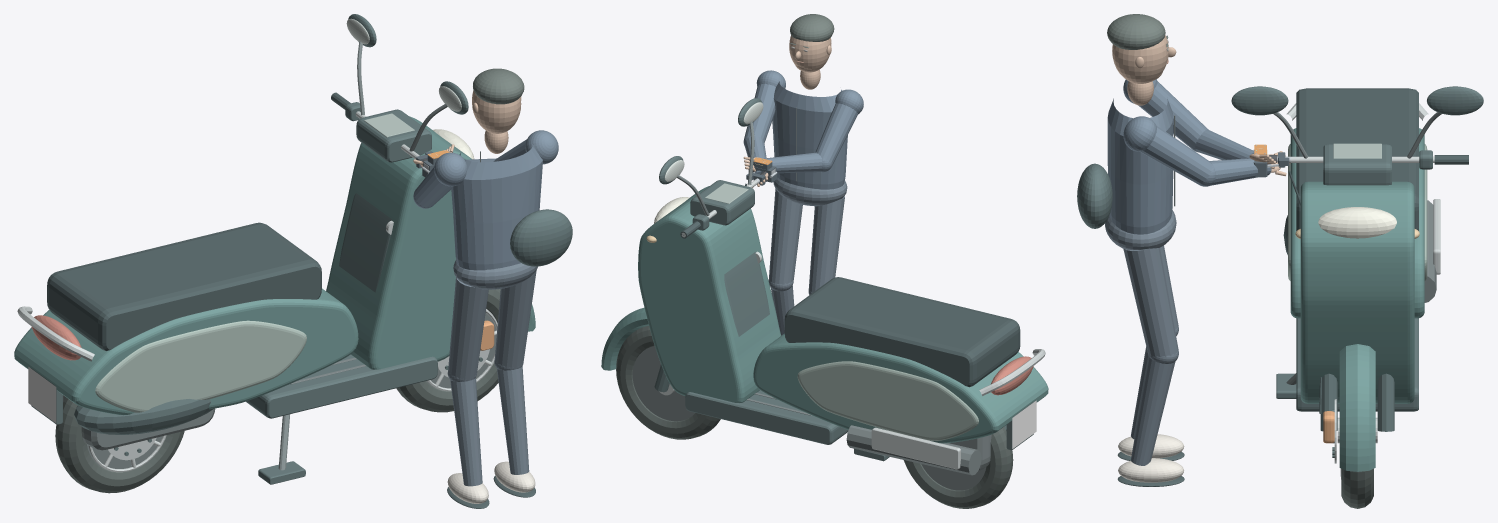
The model's file is Xe_may_va_SafeLock_R02.glb.
3 renders of one model, left to right at view 1: azimuth 30°, elevation 25°; view 2: azimuth 150°, elevation 25°; view 3: azimuth 270°, elevation 25°, orthographic. The views are drawn at different scales.
Visible parts, largest first — view 1: 073_Yen_xe, 070_Yem_truoc, 062_Vo_duoi_xe, 063_Op_duoi_phu, 154_Ao_khoac_tham_chieu, 064_San_de_chan, 000_Lop_xe, 071_Tam_op_trong, 051_Nap_truyen_dong, 188_Dui, 207_Tui_deo, 169_Dui (+19 smaller); view 2: 070_Yem_truoc, 073_Yen_xe, 062_Vo_duoi_xe, 063_Op_duoi_phu, 154_Ao_khoac_tham_chieu, 064_San_de_chan, 024_Lop_xe, 000_Lop_xe, 071_Tam_op_trong, 169_Dui, 188_Dui, 025_Vanh_xe (+17 smaller); view 3: 070_Yem_truoc, 073_Yen_xe, 154_Ao_khoac_tham_chieu, 079_Chan_bun_truoc, 169_Dui, 062_Vo_duoi_xe, 171_Cang_chan, 084_Cum_dong_ho, 086_Den_pha, 175_Tay_ao_tren, 207_Tui_deo, 159_Toc (+20 smaller).
Part boxes in pixels (x1=…): 073_Yen_xe: x1=47, y1=222, x2=321, y2=350; 070_Yem_truoc: x1=326, y1=116, x2=471, y2=369; 062_Vo_duoi_xe: x1=14, y1=288, x2=358, y2=415; 063_Op_duoi_phu: x1=95, y1=320, x2=306, y2=412; 154_Ao_khoac_tham_chieu: x1=451, y1=144, x2=542, y2=270; 064_San_de_chan: x1=246, y1=354, x2=437, y2=418; 000_Lop_xe: x1=55, y1=397, x2=184, y2=493; 071_Tam_op_trong: x1=339, y1=193, x2=392, y2=292; 051_Nap_truyen_dong: x1=74, y1=399, x2=213, y2=434; 188_Dui: x1=448, y1=277, x2=488, y2=380; 207_Tui_deo: x1=510, y1=209, x2=572, y2=266; 169_Dui: x1=494, y1=270, x2=536, y2=369; 070_Yem_truoc: x1=638, y1=186, x2=781, y2=402; 073_Yen_xe: x1=784, y1=277, x2=1020, y2=387; 062_Vo_duoi_xe: x1=753, y1=333, x2=1048, y2=443; 063_Op_duoi_phu: x1=797, y1=361, x2=978, y2=440; 154_Ao_khoac_tham_chieu: x1=772, y1=81, x2=847, y2=189; 064_San_de_chan: x1=685, y1=390, x2=848, y2=444; 024_Lop_xe: x1=616, y1=325, x2=720, y2=439; 000_Lop_xe: x1=903, y1=427, x2=1013, y2=508; 071_Tam_op_trong: x1=724, y1=252, x2=769, y2=336; 169_Dui: x1=769, y1=188, x2=802, y2=284; 188_Dui: x1=808, y1=196, x2=844, y2=292; 025_Vanh_xe: x1=632, y1=346, x2=694, y2=421; 070_Yem_truoc: x1=1300, y1=181, x2=1414, y2=403; 073_Yen_xe: x1=1296, y1=88, x2=1418, y2=230; 154_Ao_khoac_tham_chieu: x1=1107, y1=98, x2=1173, y2=234; 079_Chan_bun_truoc: x1=1339, y1=344, x2=1375, y2=471; 169_Dui: x1=1123, y1=248, x2=1178, y2=358; 062_Vo_duoi_xe: x1=1290, y1=128, x2=1424, y2=318; 171_Cang_chan: x1=1131, y1=356, x2=1175, y2=465; 084_Cum_dong_ho: x1=1323, y1=144, x2=1391, y2=185; 086_Den_pha: x1=1318, y1=207, x2=1396, y2=238; 175_Tay_ao_tren: x1=1140, y1=125, x2=1213, y2=184; 207_Tui_deo: x1=1077, y1=163, x2=1112, y2=228; 159_Toc: x1=1107, y1=14, x2=1165, y2=49.
Bounding box in the file's own units: 2.13 × 1.75 × 1.42.
